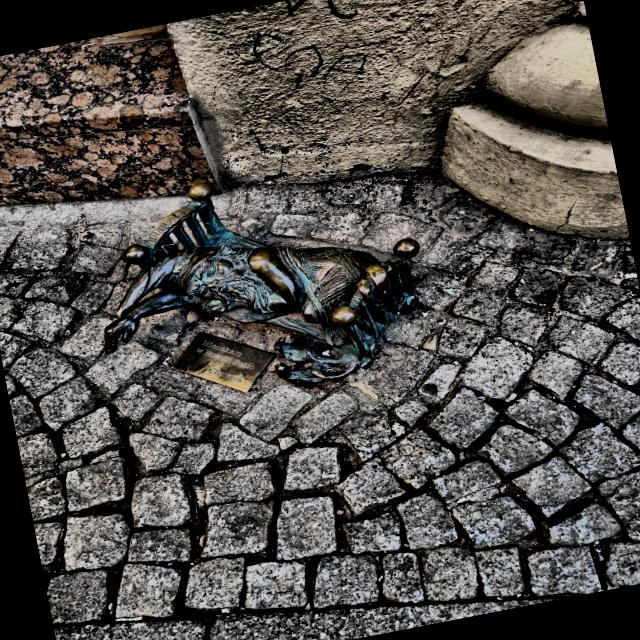Chrapek: (104, 185, 419, 385)
